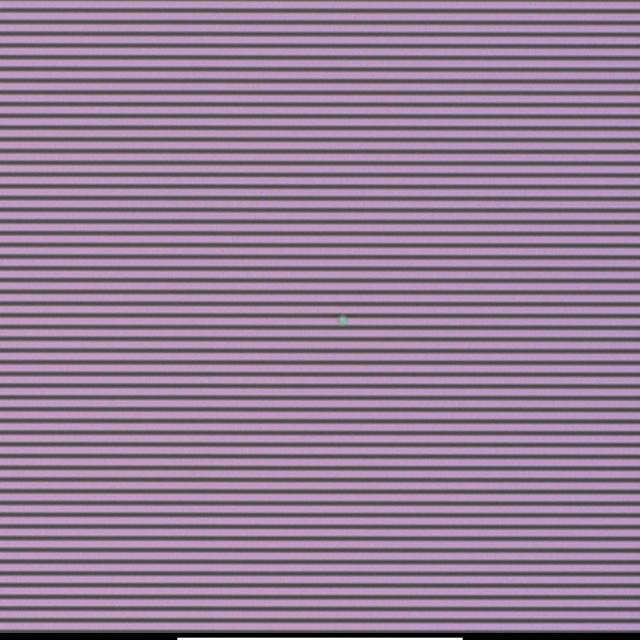03_intrusion: (338, 311, 350, 331)
